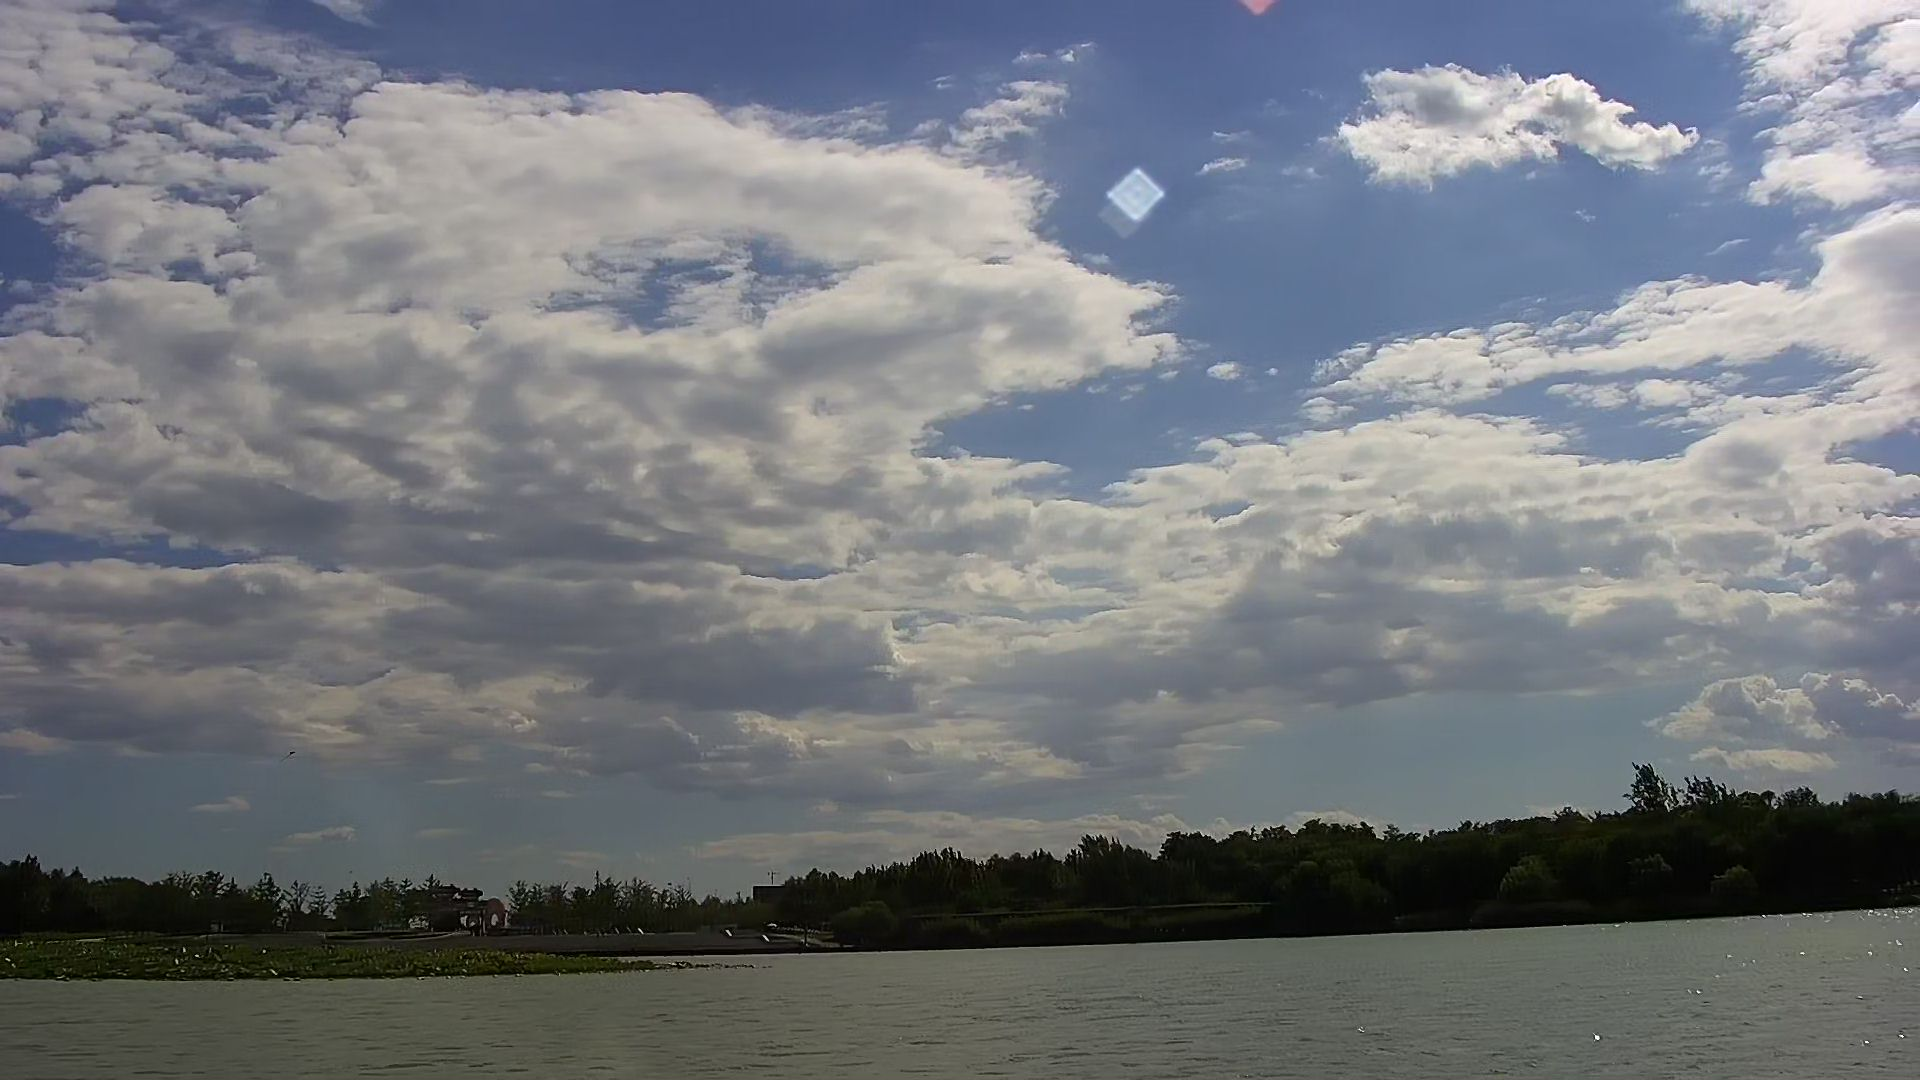harbor: (520, 920, 853, 960)
